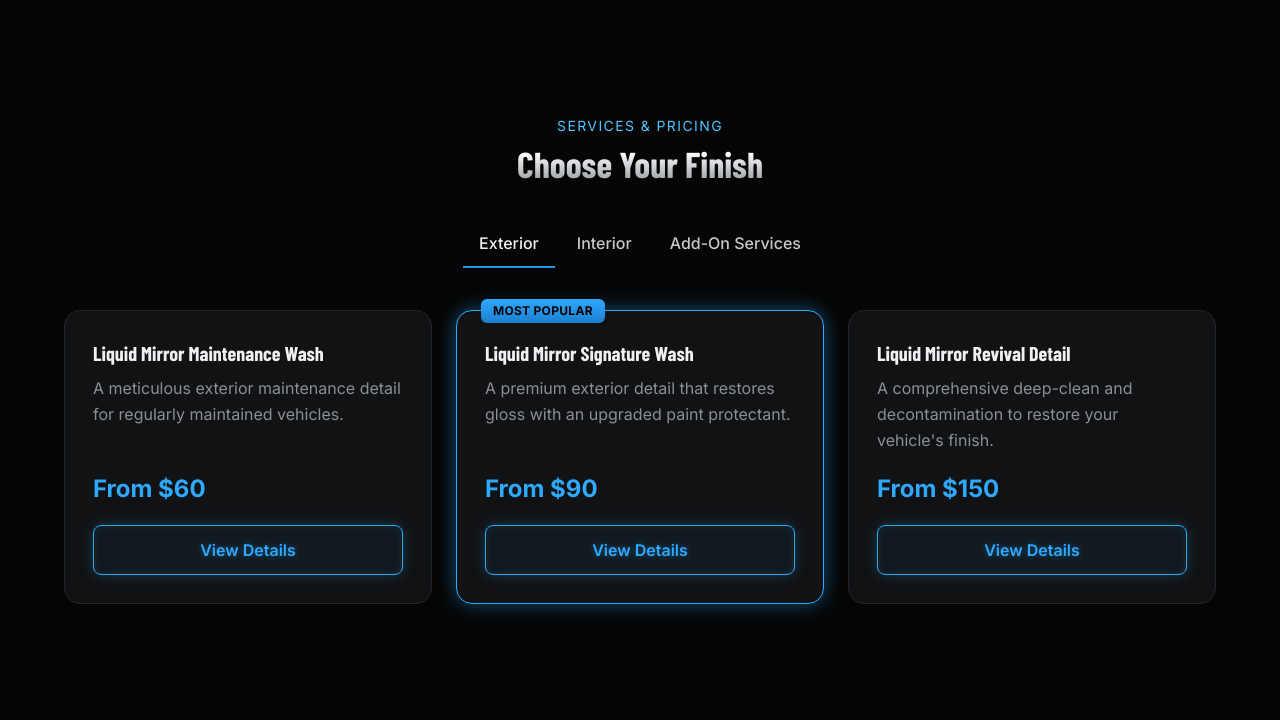
Scenario: ServicesSection › opens a modal with the correct pricing when View Details is clicked
Click the button "View Details" below "From $60". click: (248, 550)
box: [93,525,403,575]
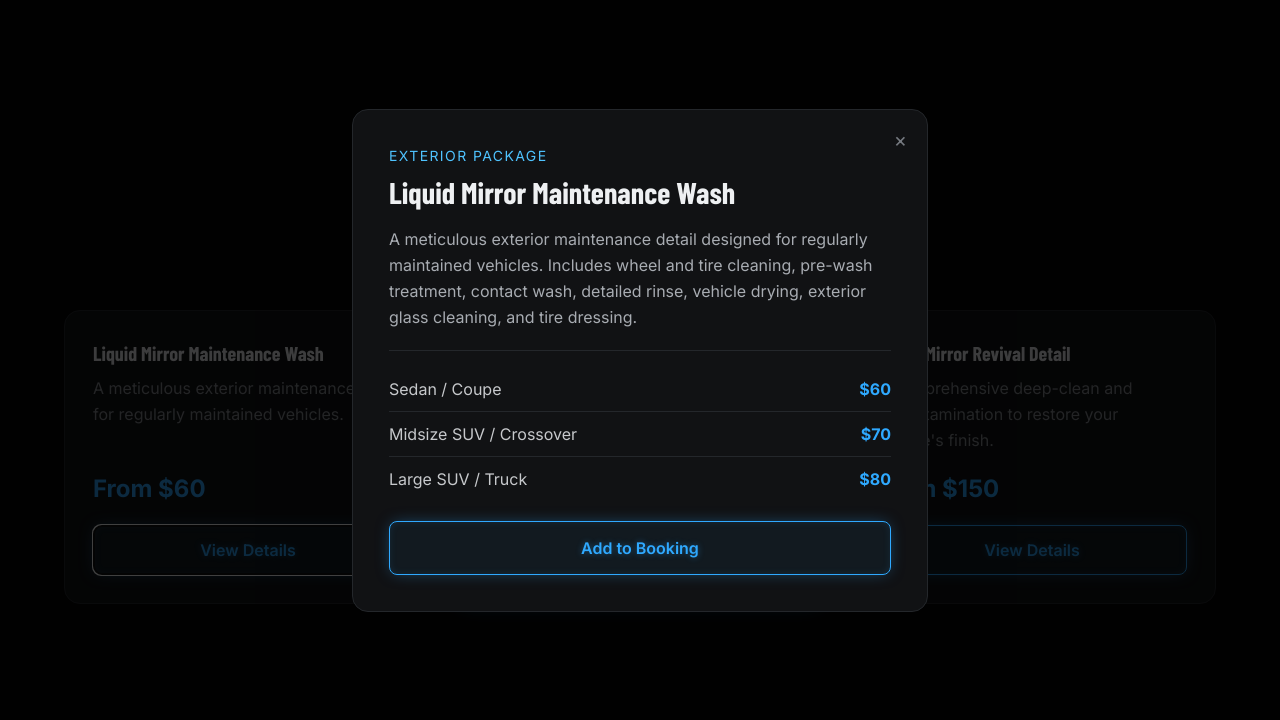
Expected: the dialog is shown
Expected: the text "$60" is shown, [859,376,891,400]
